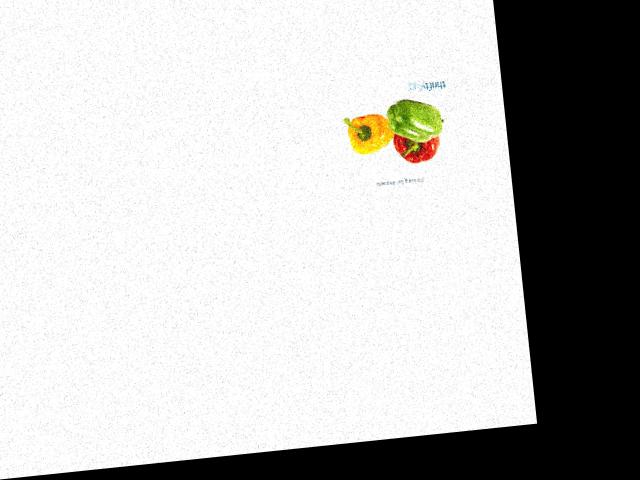bell_pepper: (380, 91, 446, 144)
